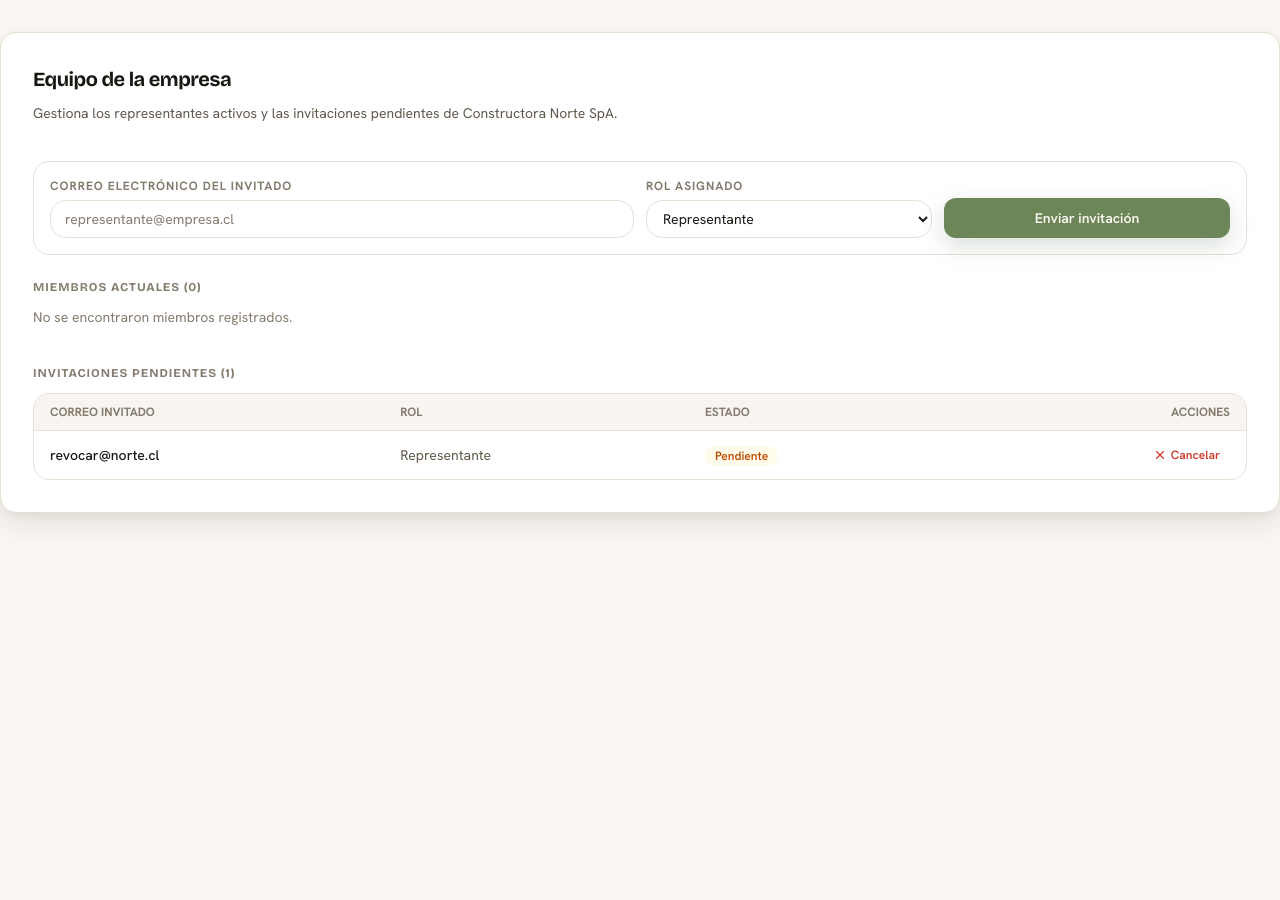
Test: CompanyTeamSection › permite cancelar una invitación pendiente tras confirmar en el diálogo y la retira de la lista (CA7)
Expected: the text "revocar@norte.cl" is shown, 34,430 -> 384,479
Step 1. Click the button with aria-label "cancelar invitación de revocar@norte.cl" → (1186, 455), box 1143,443 -> 1230,467
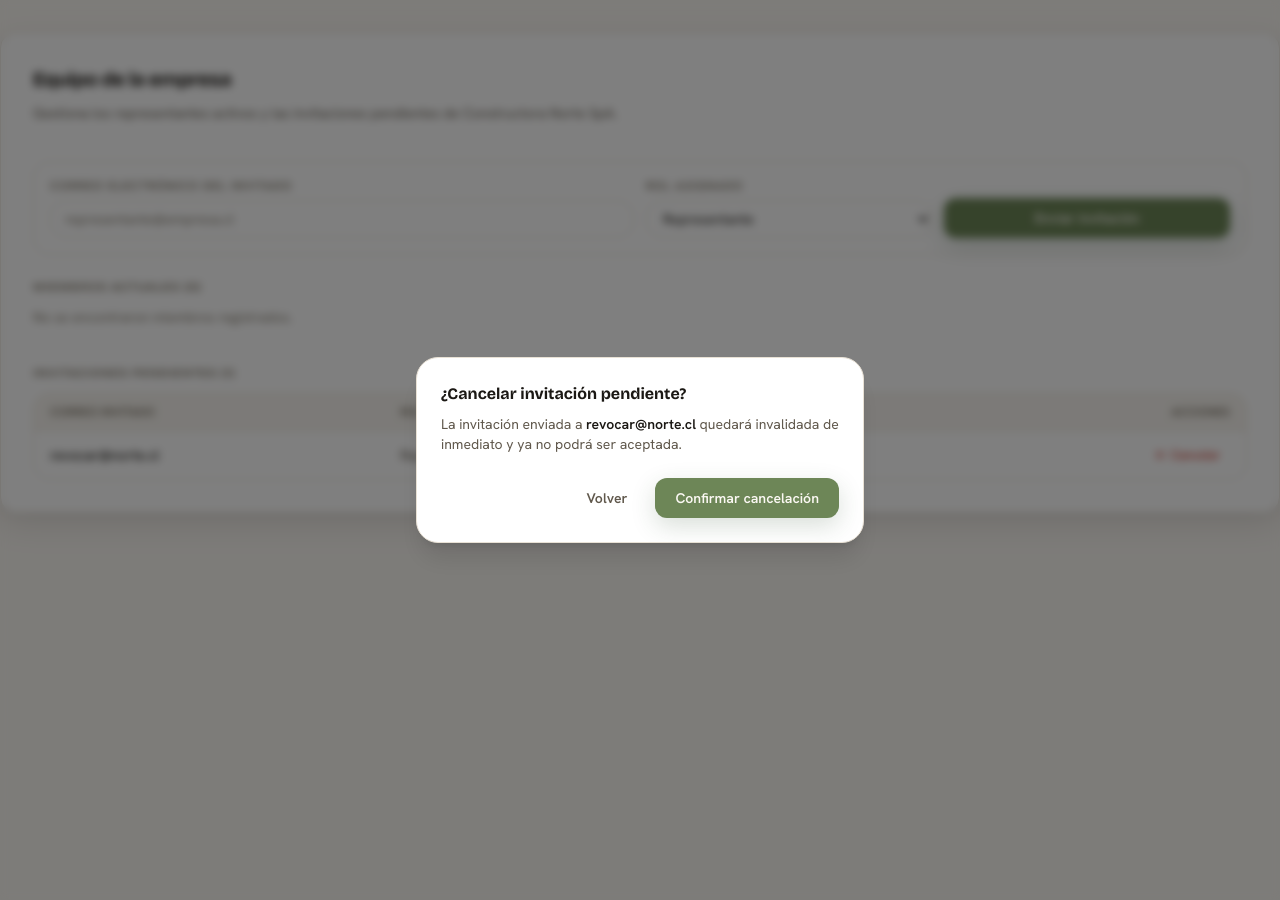
Expected: the dialog is shown
Expected: the text "revocar@norte.cl" is shown, 586,415 -> 696,433
Step 2. Click the button "Confirmar cancelación" → (747, 498), box 655,478 -> 839,518
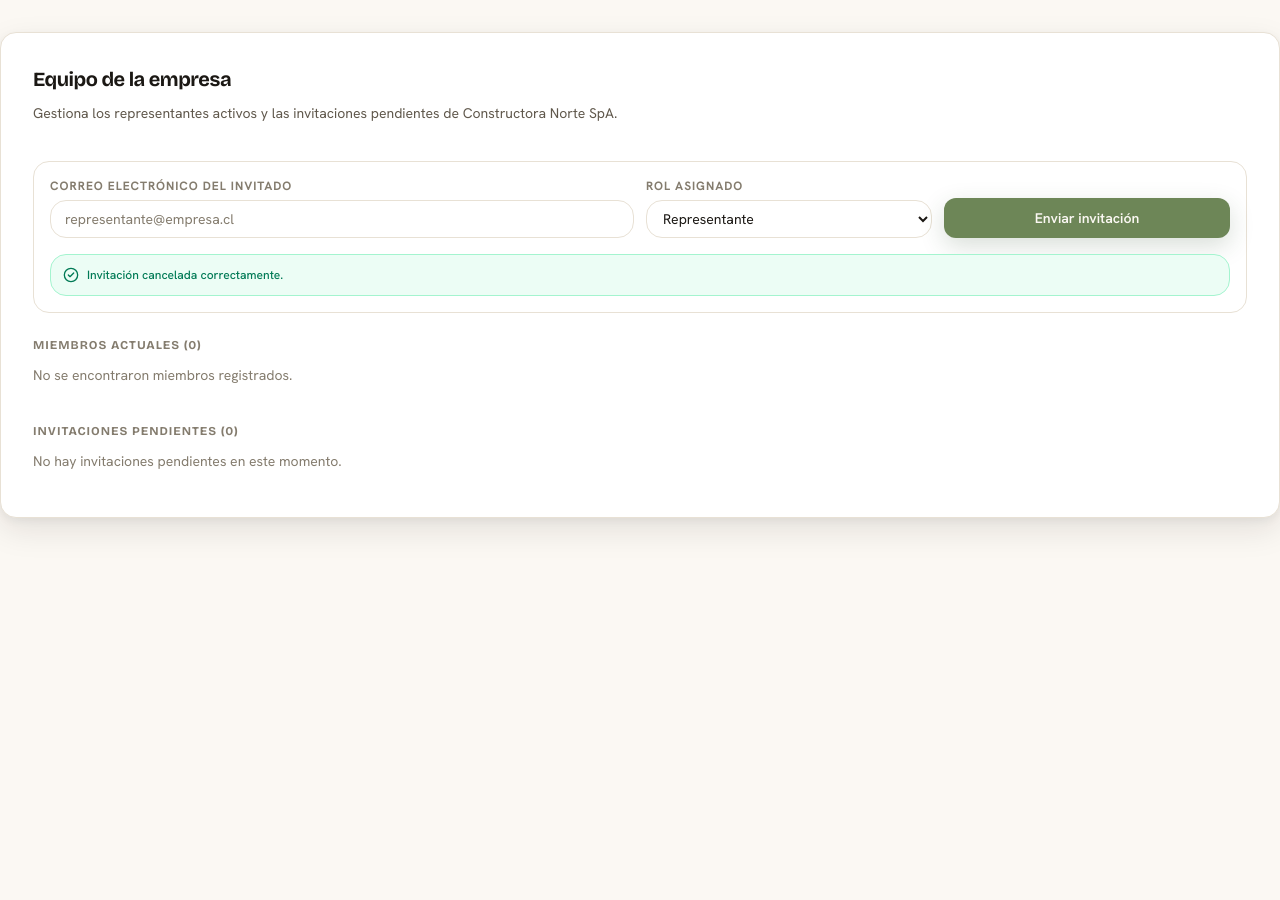
Expected: the text "revocar@norte.cl" is gone
Expected: the text "Invitación cancelada correctamente." is shown, 87,267 -> 283,283
